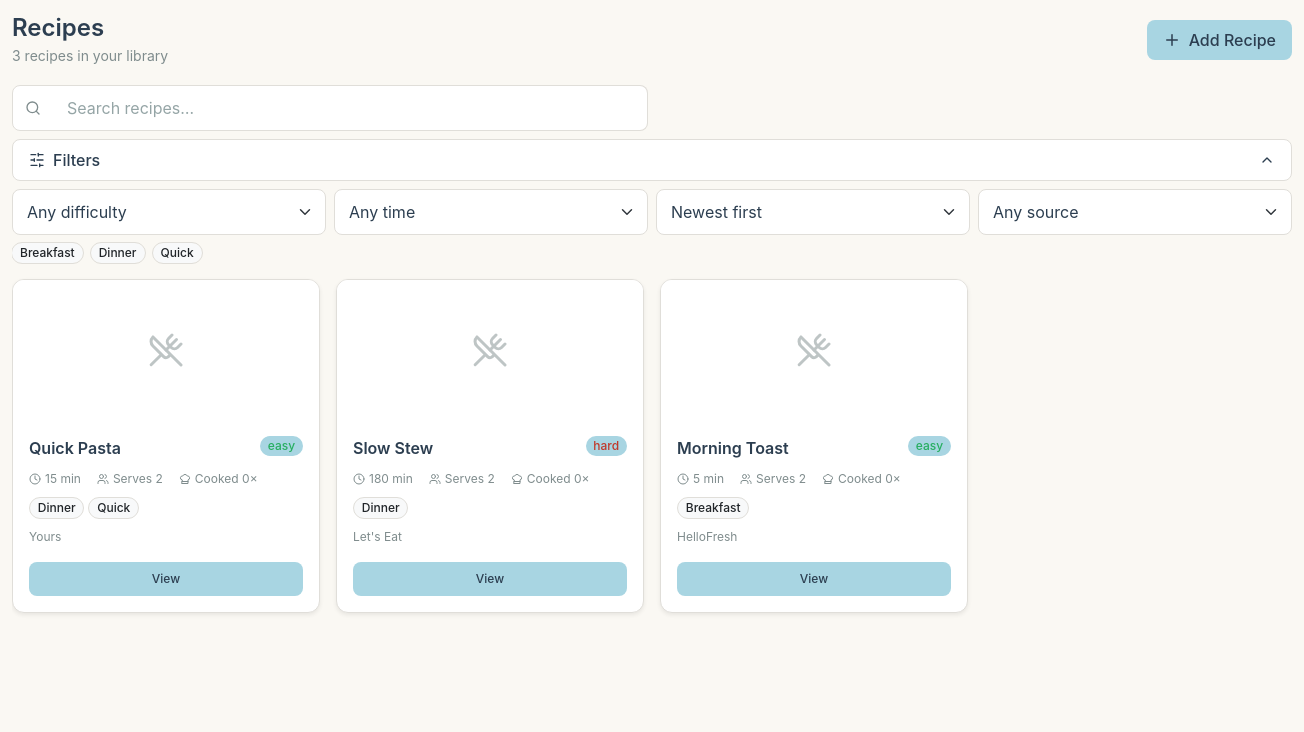
RecipeList › search › clears the search from the input itself
Type "pasta" into the field labelled "Search recipes".
click(350, 108); type("pasta")  # box [53, 85, 648, 131]
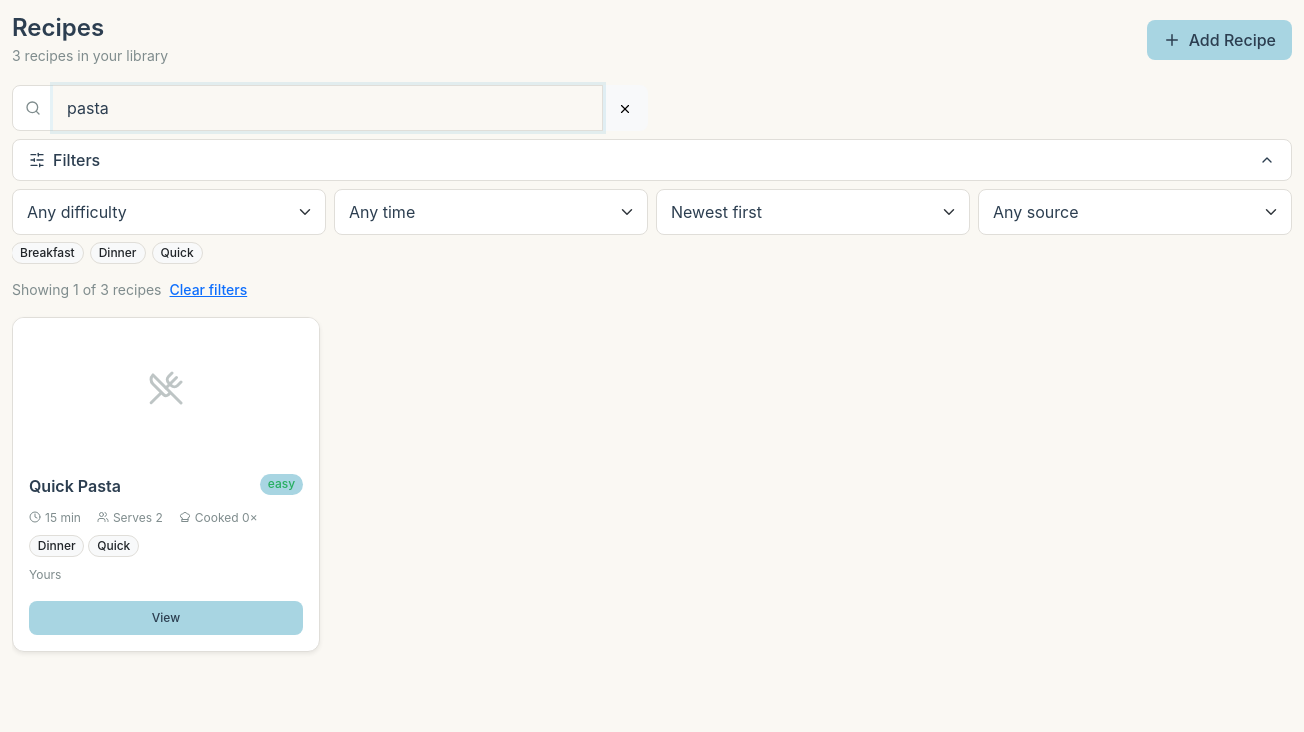
Click the button named "clear search".
click(625, 108)  # box [602, 85, 648, 131]
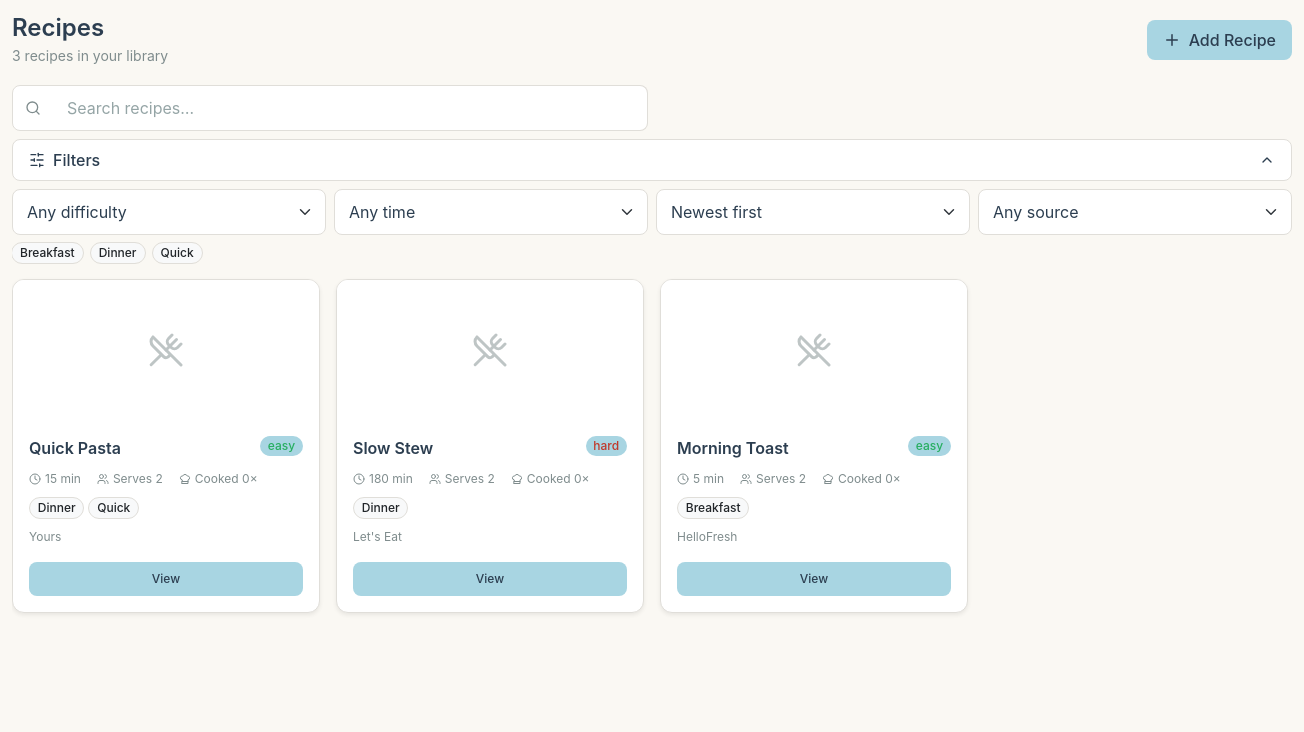
Check: the field labelled "Search recipes" is empty, box [53, 85, 648, 131]
Check: the text "Slow Stew" is shown, box [353, 436, 433, 461]
